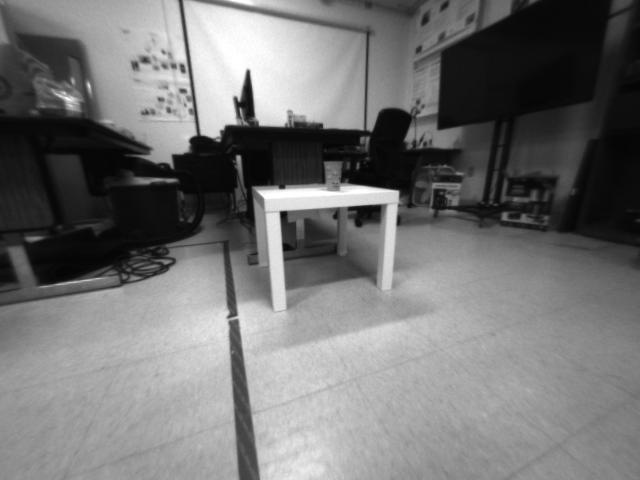coffee_cup: (321, 158, 345, 192)
